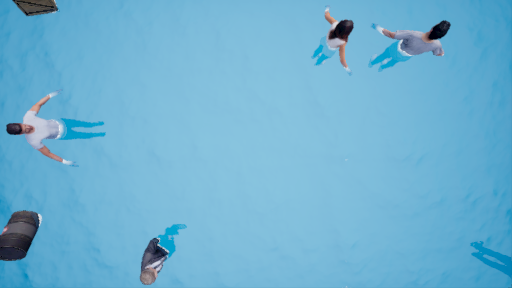person: (7, 96, 109, 165), (370, 17, 457, 83), (313, 8, 362, 79), (137, 222, 191, 282)
